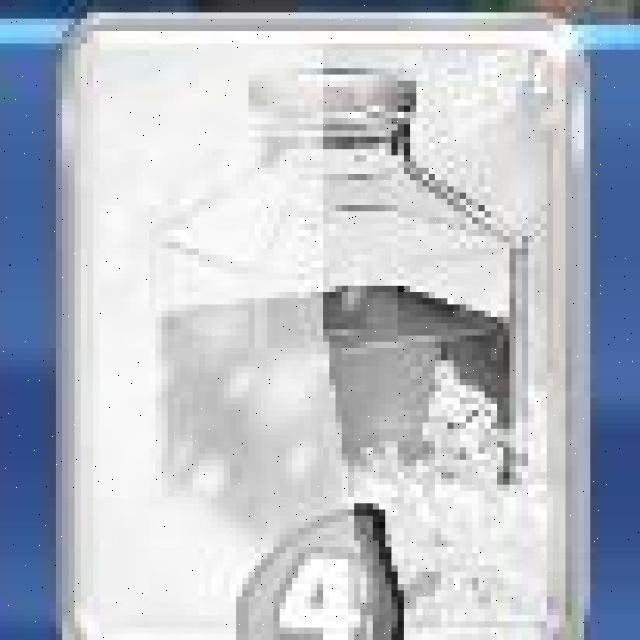Freeze: (55, 13, 592, 640)
